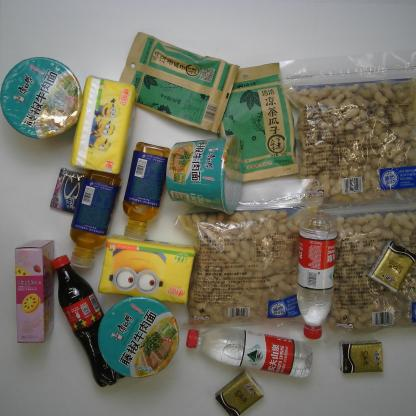Dessert: (15, 239, 56, 343)
Dried Food: (170, 179, 330, 332), (279, 52, 415, 212), (307, 200, 416, 346), (113, 31, 240, 135), (209, 62, 300, 184)
Drink: (52, 255, 131, 386), (186, 327, 314, 379), (296, 215, 338, 339), (70, 169, 122, 269), (123, 141, 172, 241)
Gum: (50, 168, 88, 215)
Instant Noodles: (98, 296, 180, 378), (1, 58, 82, 138), (166, 136, 244, 215)
Tissue: (98, 235, 197, 304), (72, 75, 136, 175), (368, 241, 416, 293), (214, 370, 264, 415), (341, 340, 384, 373)
